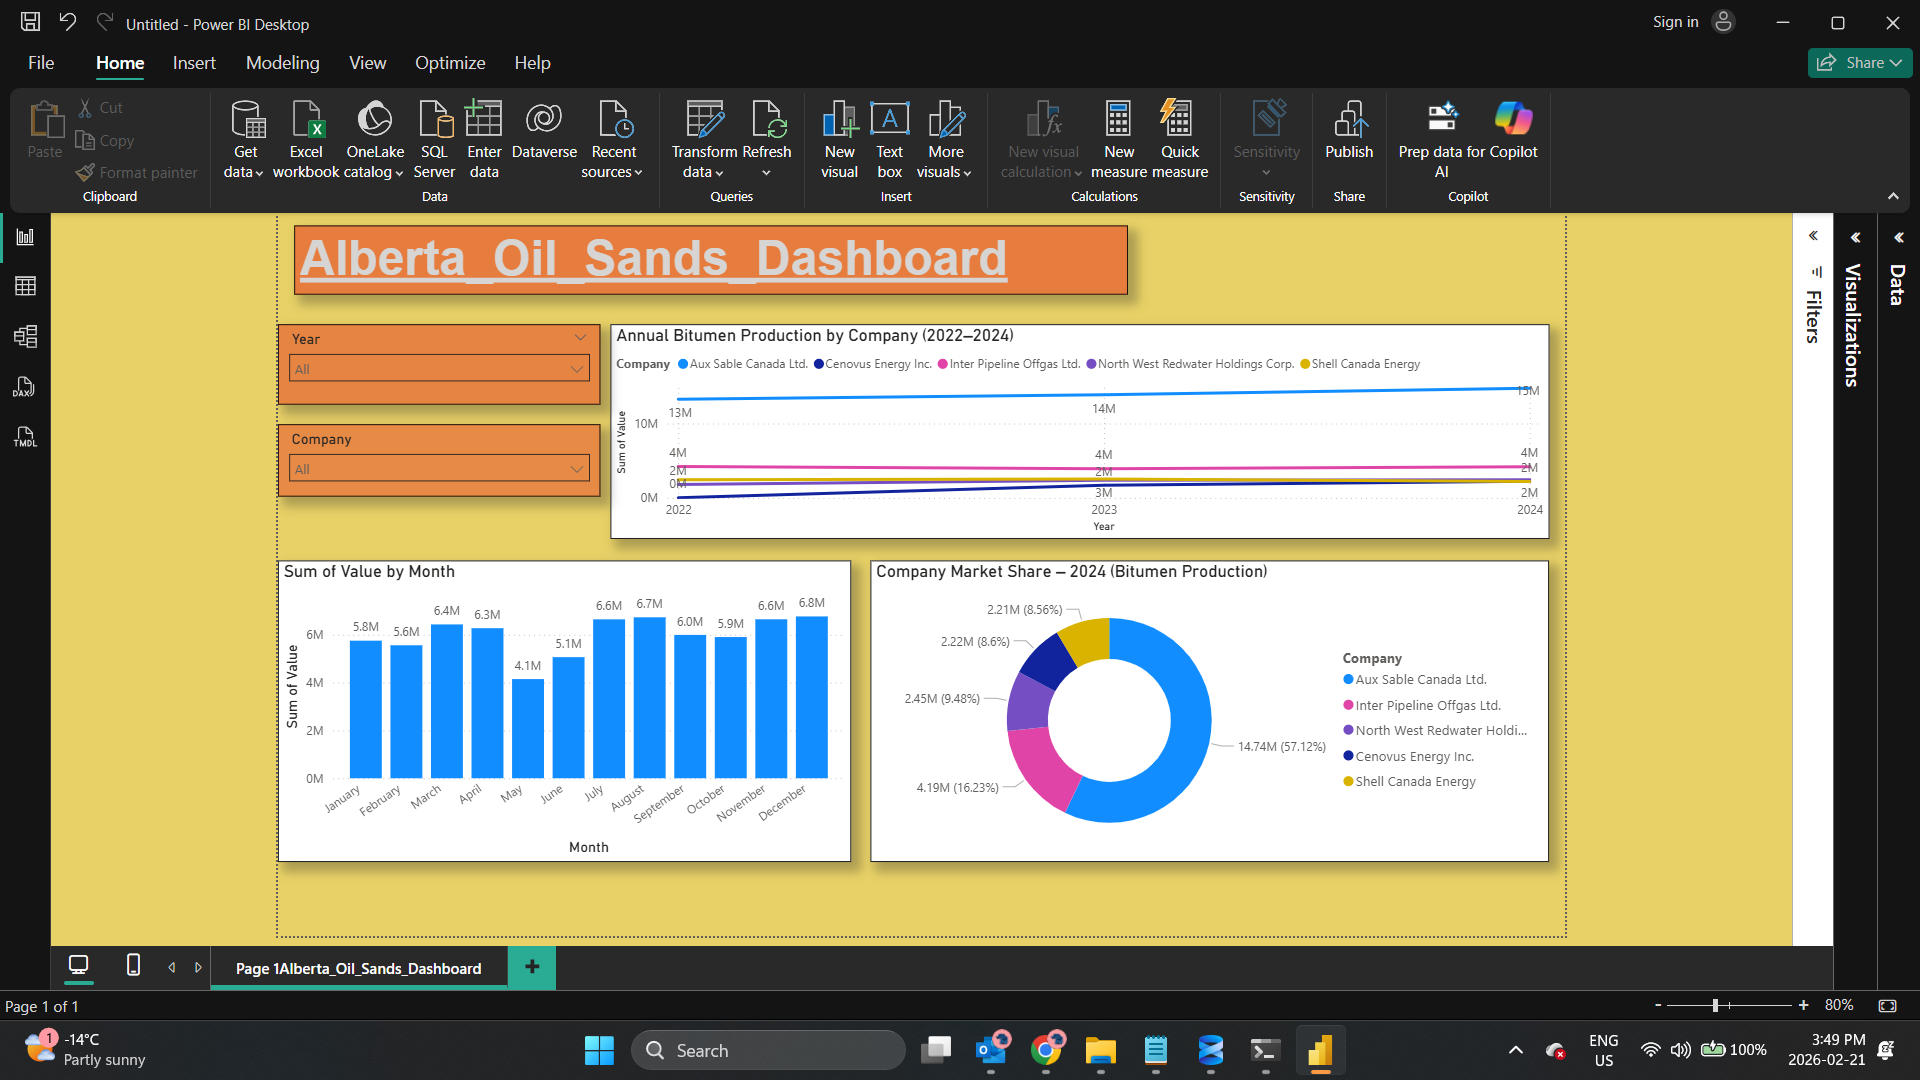

The page's visual inventory and layout, read from the dashboard file:
{"tool":"powerbi","page":{"name":"Page 1Alberta_Oil_Sands_Dashboard","canvas":[1280,720],"ordinal":0},"visuals":[{"type":"lineChart","title":"Annual Bitumen Production by Company (2022–2024)","fields":{"Category":["ab_energy_master.Year"],"Y":["Sum(ab_energy_master.Value)"],"Series":["ab_energy_master.Company"]},"box":[330.9,110.7,934.2,214],"z":0},{"type":"donutChart","title":"Company Market Share – 2024 (Bitumen Production)","fields":{"Category":["ab_energy_master.Company"],"Y":["Sum(ab_energy_master.Value)"]},"box":[589,345.6,675.1,299.9],"z":1},{"type":"clusteredColumnChart","fields":{"Y":["Sum(ab_energy_master.Value)"],"Category":["ab_energy_master.Month"]},"box":[0,345.6,570.2,299.9],"z":2},{"type":"slicer","fields":{"Values":["ab_energy_master.Year"]},"box":[0,110.7,320.9,79.6],"z":3},{"type":"slicer","fields":{"Values":["ab_energy_master.Company"]},"box":[0,210.2,320.9,72.1],"z":4},{"type":"textbox","box":[58.5,12.4,787.4,68.4],"z":5}]}

Visuals, with their boxes on the page's 1280x720 design canvas (x1, y1, x2, y2). These are canvas units, not pixel positions in the 1920x1080 screenshot, which may show the page scaled, cropped or inside an application window:
"Annual Bitumen Production by Company (2022–2024)" lineChart: BBox(331, 111, 1265, 325)
"Company Market Share – 2024 (Bitumen Production)" donutChart: BBox(589, 346, 1264, 646)
clusteredColumnChart - Sum(ab_energy_master.Value) x ab_energy_master.Month: BBox(0, 346, 570, 646)
slicer - ab_energy_master.Year: BBox(0, 111, 321, 190)
slicer - ab_energy_master.Company: BBox(0, 210, 321, 282)
textbox: BBox(58, 12, 846, 81)
